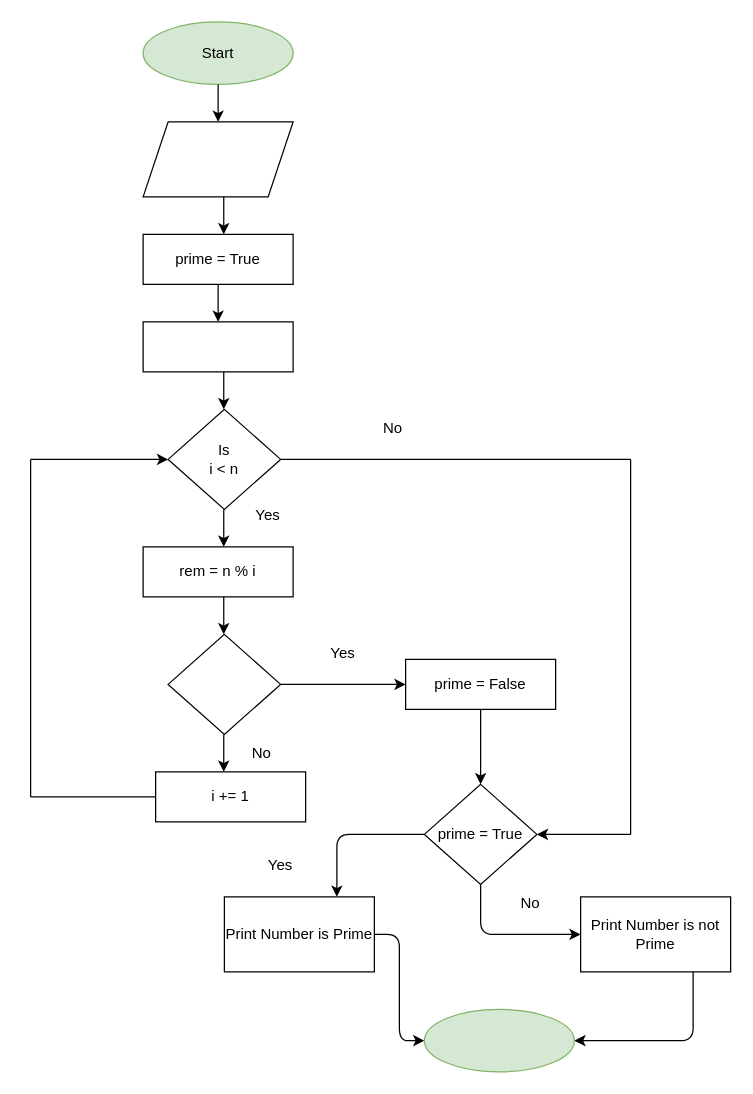
This 753x1094 diagram has some shape labels left out. The shapes that lost their labels are listed below. From the top down, each one's centre as x and y in pixels, then its label:
the point at 217,159: User input (n)
the point at 217,346: i = 2
the point at 224,683: rem == 0
the point at 498,1040: Stop
